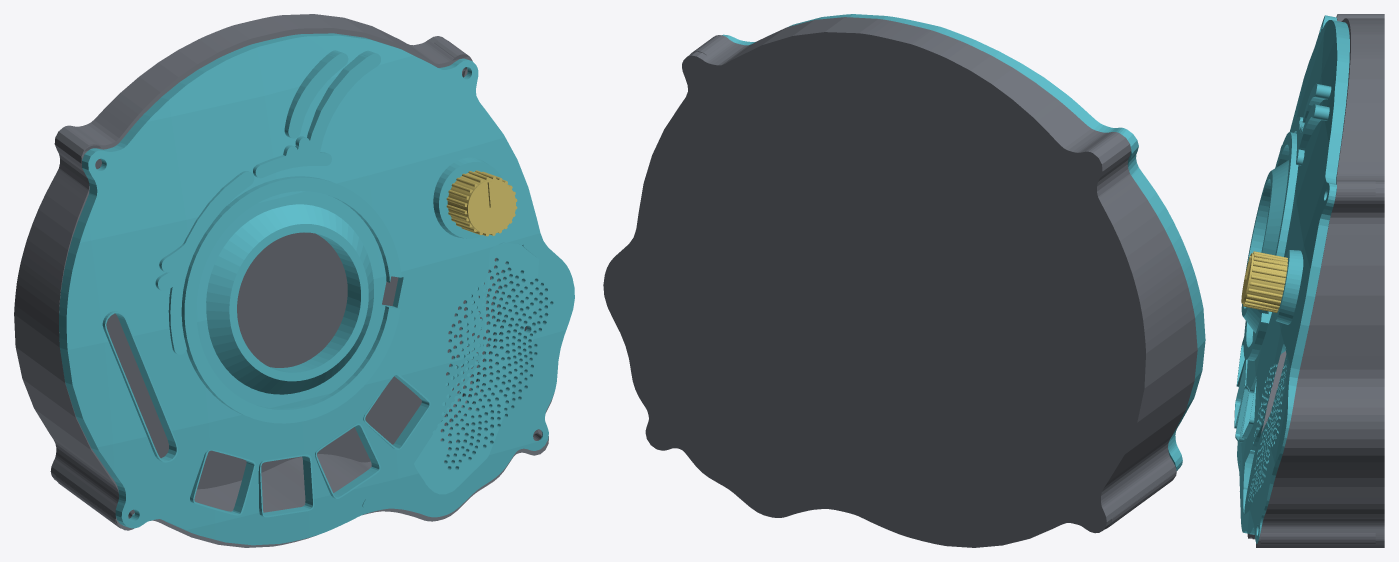
Rendered from Tone_Dial_Complete_Enclosure.glb.
3 renders of one model, left to right at view 1: azimuth 30°, elevation 25°; view 2: azimuth 150°, elevation 25°; view 3: azimuth 270°, elevation 25°, orthographic. The views are drawn at different scales.
Parts seen in each view (by area): view 1: Domed_Conch_Faceplate, Base_Tray_Wedge, Rotary_Dial_Knob; view 2: Base_Tray_Wedge, Domed_Conch_Faceplate; view 3: Base_Tray_Wedge, Domed_Conch_Faceplate, Rotary_Dial_Knob.
Boxes of the visible parts, x1=… form: Domed_Conch_Faceplate: x1=59, y1=33, x2=574, y2=545; Base_Tray_Wedge: x1=14, y1=14, x2=554, y2=547; Rotary_Dial_Knob: x1=446, y1=170, x2=517, y2=236; Base_Tray_Wedge: x1=603, y1=17, x2=1197, y2=547; Domed_Conch_Faceplate: x1=722, y1=14, x2=1205, y2=470; Base_Tray_Wedge: x1=1247, y1=14, x2=1384, y2=547; Domed_Conch_Faceplate: x1=1234, y1=15, x2=1349, y2=543; Rotary_Dial_Knob: x1=1241, y1=251, x2=1287, y2=312.
Bounding box in the file's own units: 150 × 134 × 41.51.
